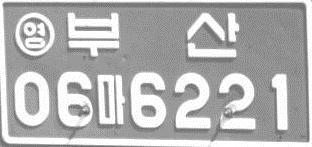0: (13, 70, 51, 128)
1: (260, 71, 296, 131)
2: (216, 72, 257, 130), (172, 71, 212, 130)
6: (56, 70, 93, 127), (129, 72, 166, 128)
마: (96, 74, 126, 125)
부산_D: (66, 12, 239, 58)
영: (14, 11, 55, 59)
